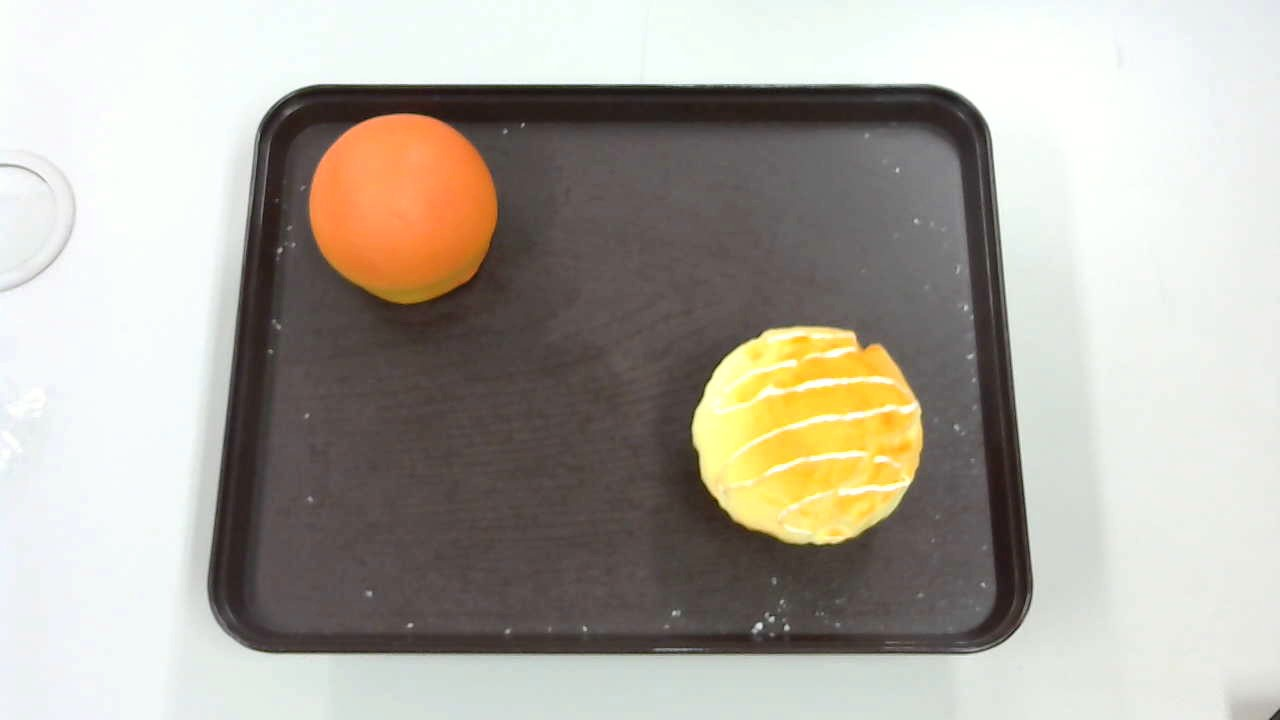bun: (308, 112, 498, 305)
cupcake: (690, 324, 924, 547)
